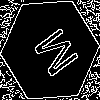M: (25, 25, 80, 86)
